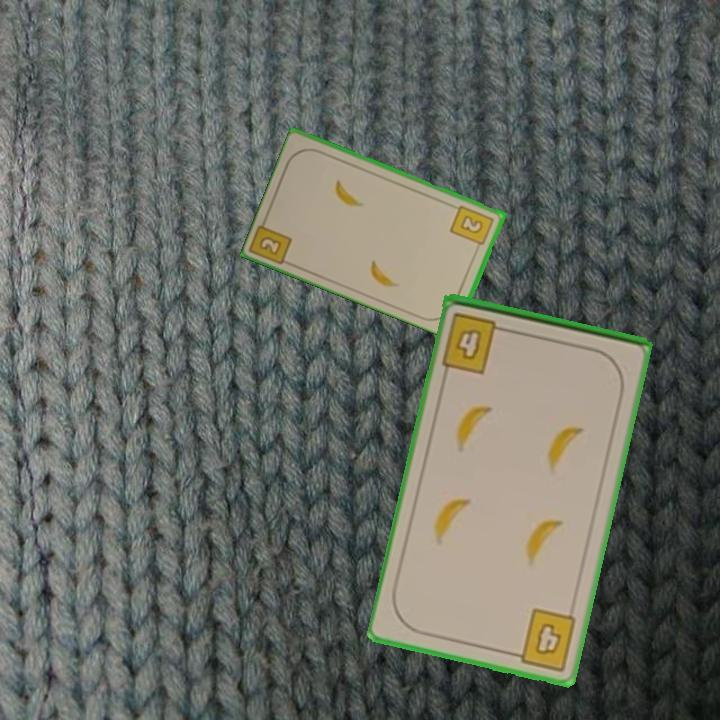2b: (447, 201, 497, 252), (256, 233, 285, 258)
4b: (506, 605, 580, 674), (438, 309, 512, 377)
